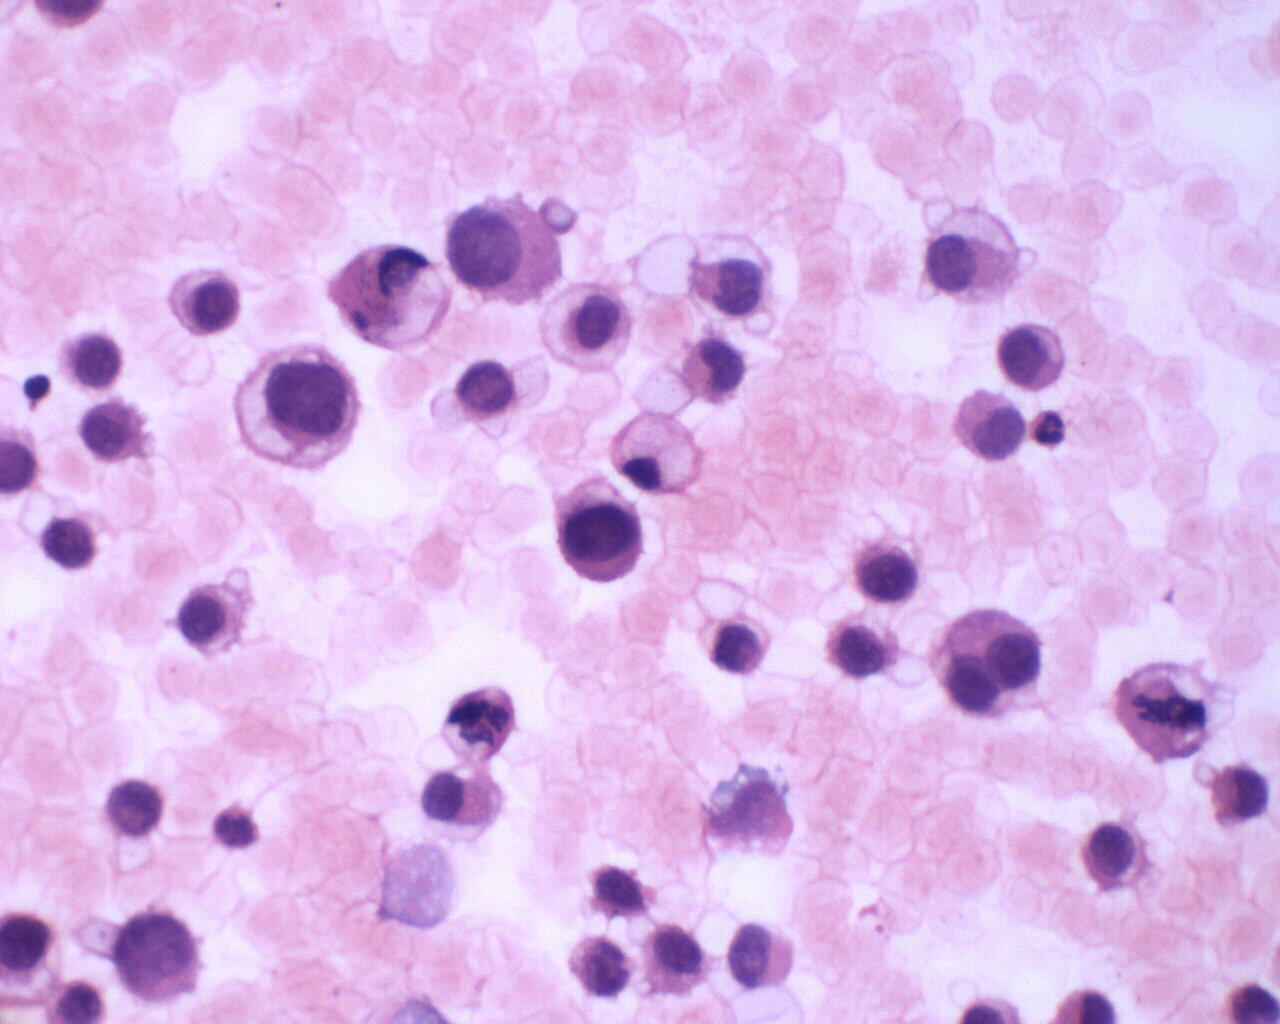ab: (229, 338, 364, 476), (449, 187, 567, 304), (545, 478, 646, 585), (111, 903, 207, 1013), (993, 318, 1070, 392), (1078, 818, 1151, 897), (818, 611, 897, 683), (76, 397, 147, 467), (1201, 762, 1273, 830), (854, 536, 920, 607), (453, 359, 517, 426), (37, 511, 104, 573), (55, 330, 126, 389), (702, 616, 768, 678)
histo: (327, 240, 453, 355), (608, 408, 701, 499)
meso: (921, 206, 1024, 305), (540, 277, 637, 374), (633, 917, 711, 995), (166, 265, 245, 334)
neutro: (1026, 405, 1069, 451)
